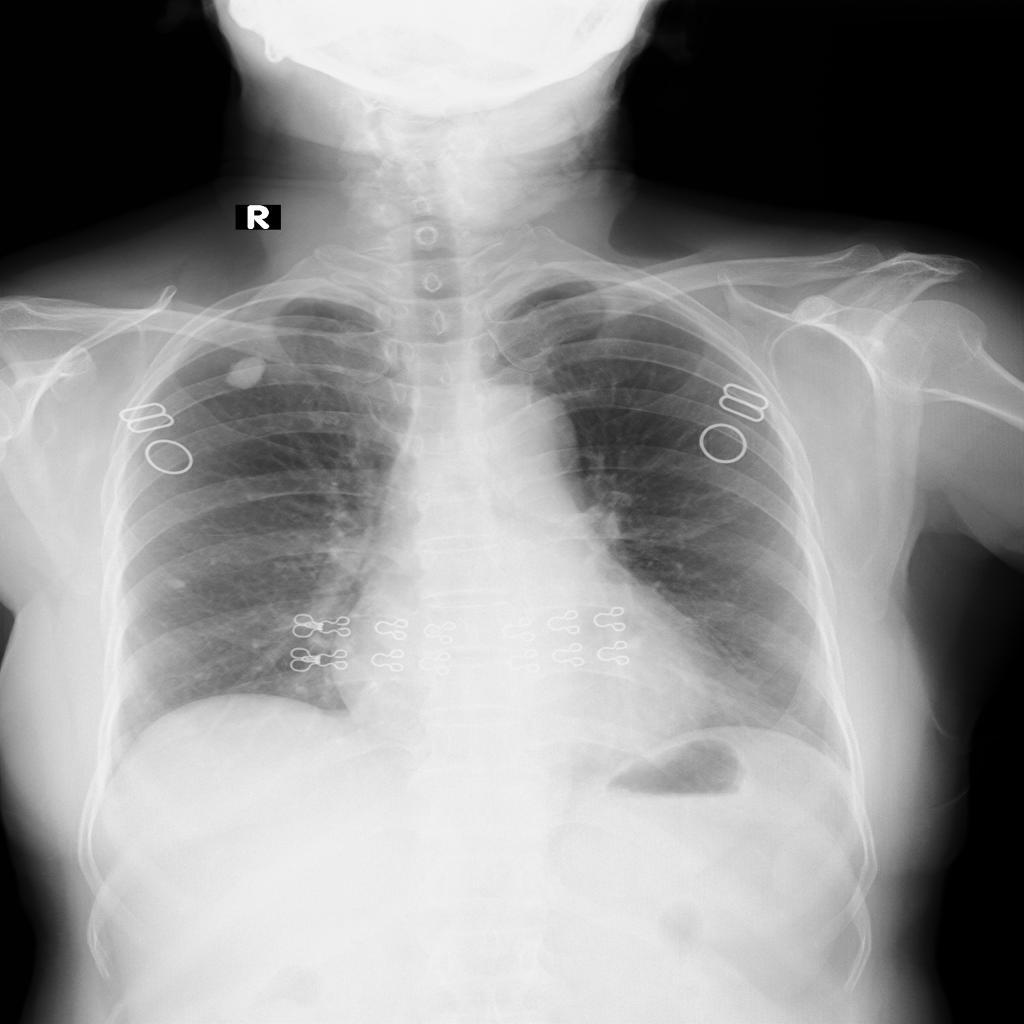Nodule: (226, 356, 267, 391), (170, 579, 188, 590)
